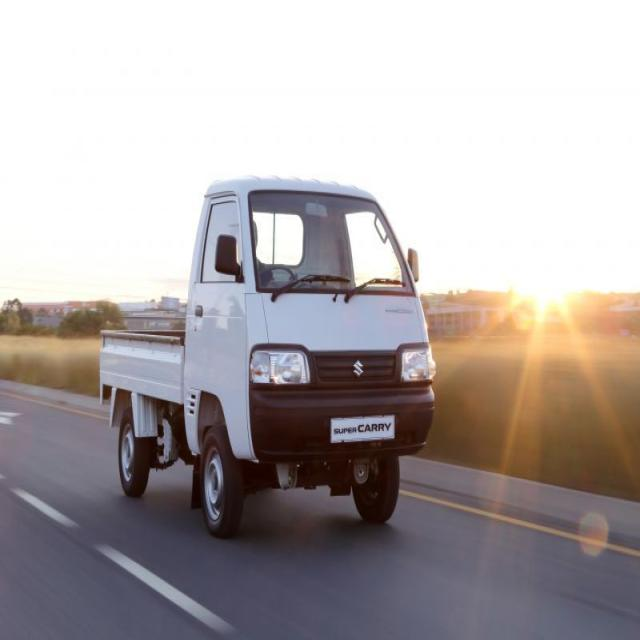Pickup Trucks: (98, 168, 436, 543)
